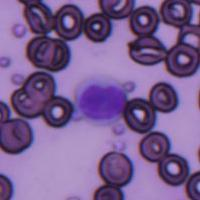M: (74, 74, 126, 125)
